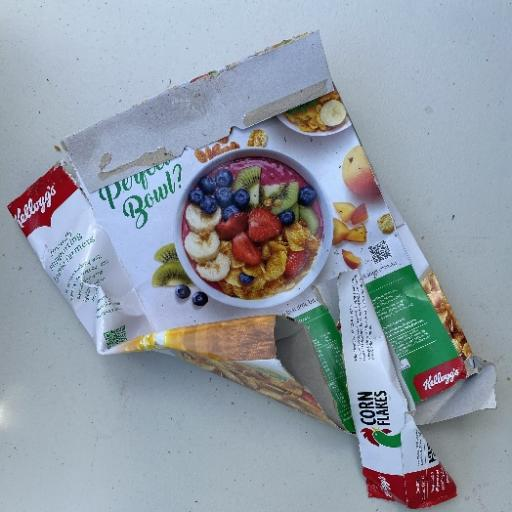Cardboard: (8, 29, 496, 507)
